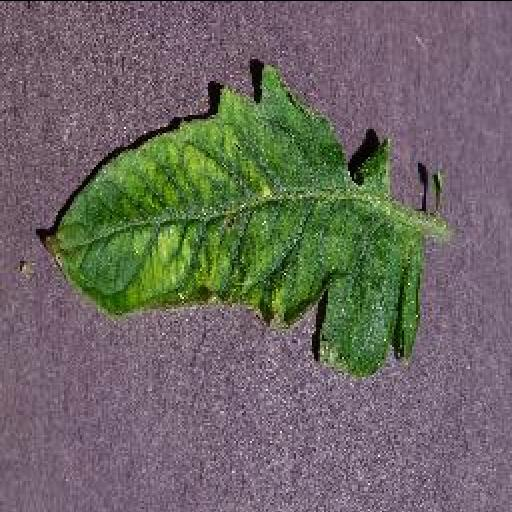Mosaic Virus: (38, 61, 426, 383)
